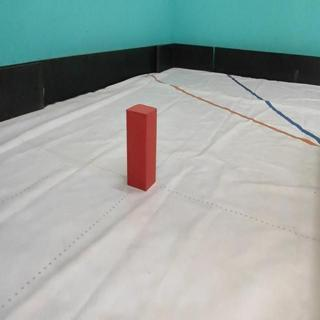redbox: (126, 103, 157, 191)
